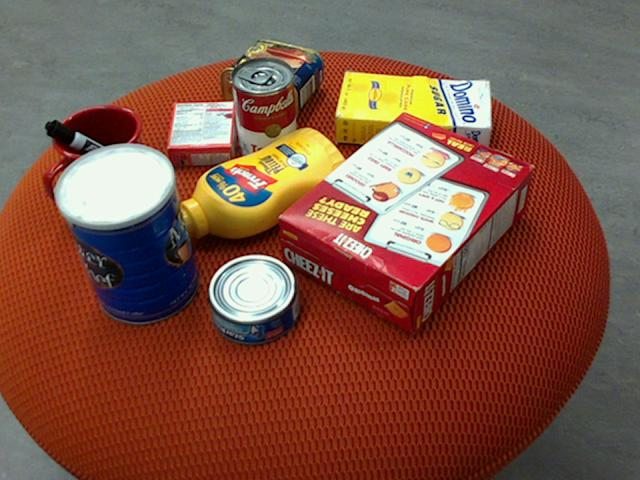cracker_box: (278, 111, 535, 332)
gelatin_box: (165, 100, 237, 166)
large_marker: (44, 119, 147, 184)
master_chef_can: (51, 143, 199, 324)
mug: (46, 104, 150, 211)
mustard_bottle: (166, 127, 351, 238)
potted_meat_can: (220, 40, 323, 122)
sugar_box: (335, 72, 492, 151)
tomato_soup_can: (230, 55, 297, 165)
tuna_fish_can: (208, 255, 301, 345)
